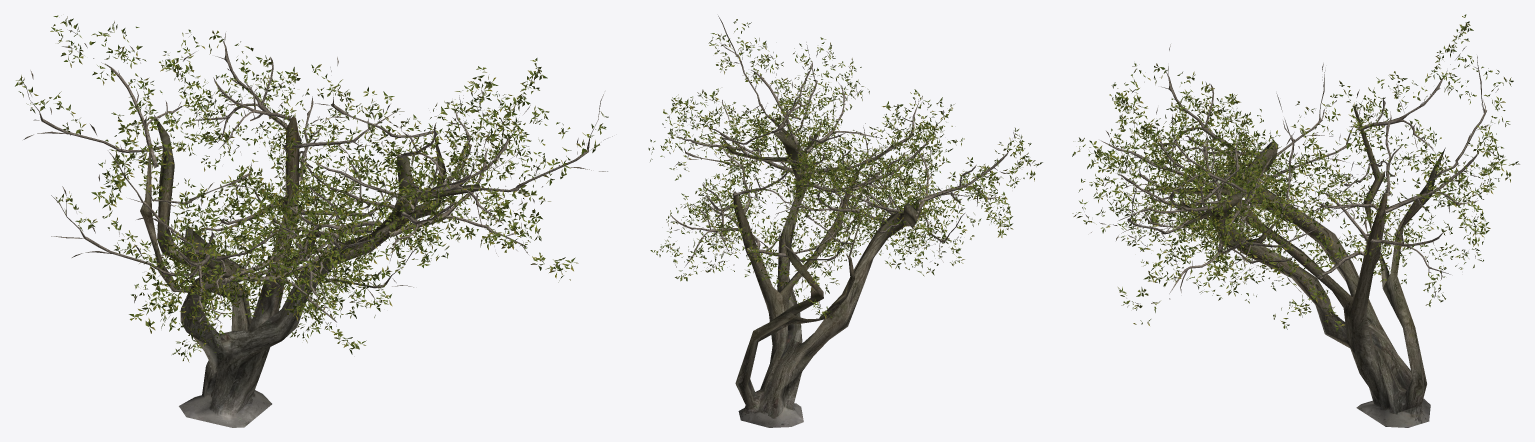
Rendered from tree-low.glb.
The picture shows the model from 3 angles, left to right: view 1: azimuth 30°, elevation 25°; view 2: azimuth 150°, elevation 25°; view 3: azimuth 270°, elevation 25°; orthographic projection. The views are drawn at different scales.
Visible parts, largest first — view 1: island_tree_02_LOD0; view 2: island_tree_02_LOD0; view 3: island_tree_02_LOD0.
Boxes of the visible parts, bbox=[...] form: island_tree_02_LOD0: bbox=[15, 15, 612, 427]; island_tree_02_LOD0: bbox=[648, 16, 1042, 427]; island_tree_02_LOD0: bbox=[1072, 14, 1519, 427].
Bounding box in the file's own units: 4.05 × 3.4 × 4.04.
Materials: 3 (3 with a texture image).
